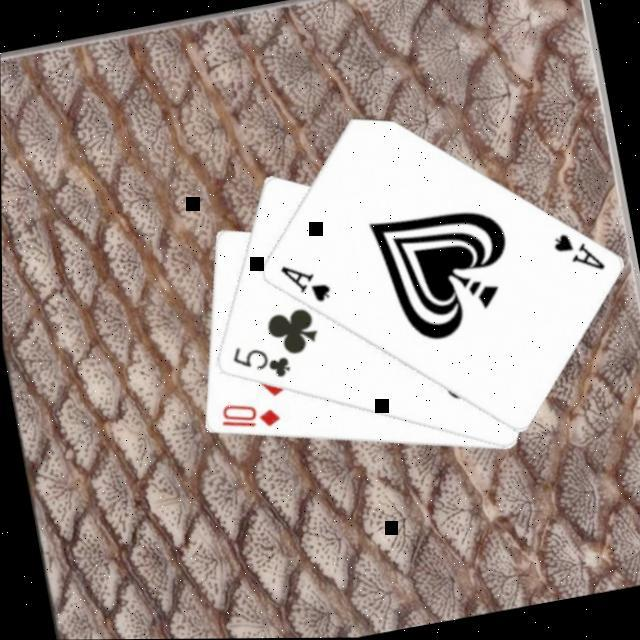10D: (214, 394, 282, 439)
5C: (224, 336, 293, 390)
AS: (546, 225, 608, 283), (274, 256, 334, 312)
